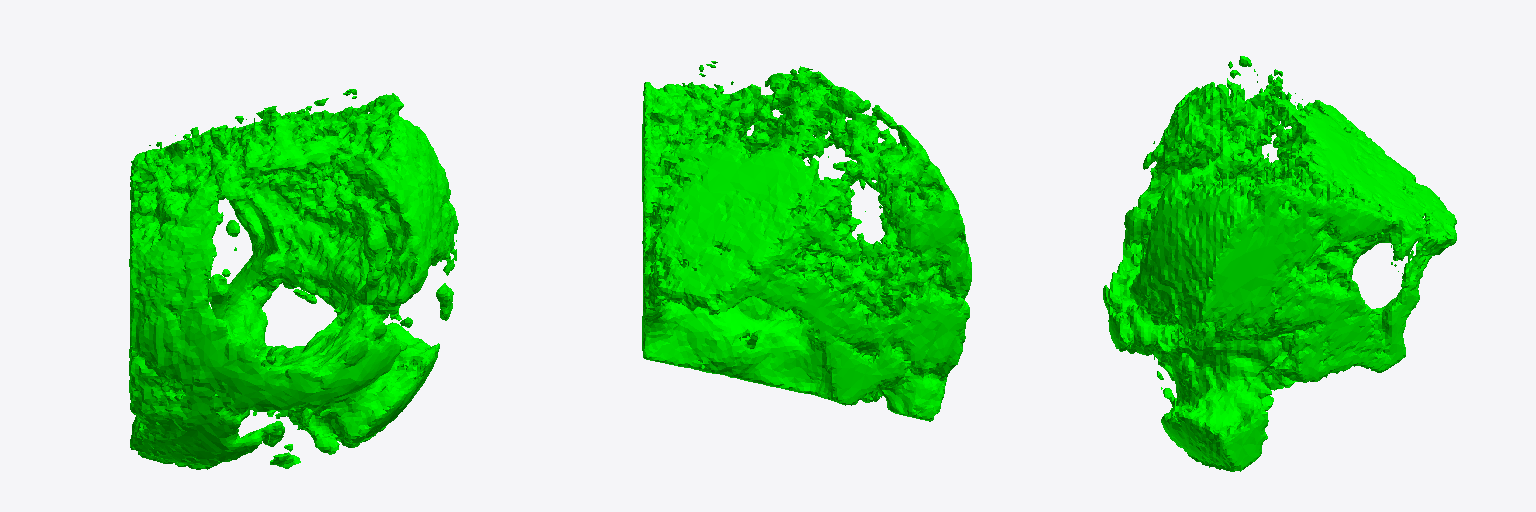
File: B939XXXX-1_base_30.obj
The picture shows the model from 3 angles: view 1: azimuth 30°, elevation 25°; view 2: azimuth 150°, elevation 25°; view 3: azimuth 270°, elevation 25°; orthographic projection.
Visible parts, largest first — view 1: 30_base; view 2: 30_base; view 3: 30_base.
Part boxes in pixels (bbox=[...]): 30_base: bbox=[129, 89, 458, 469]; 30_base: bbox=[642, 61, 971, 421]; 30_base: bbox=[1103, 56, 1456, 471].
Bounding box in the file's own units: 220 × 220 × 206.